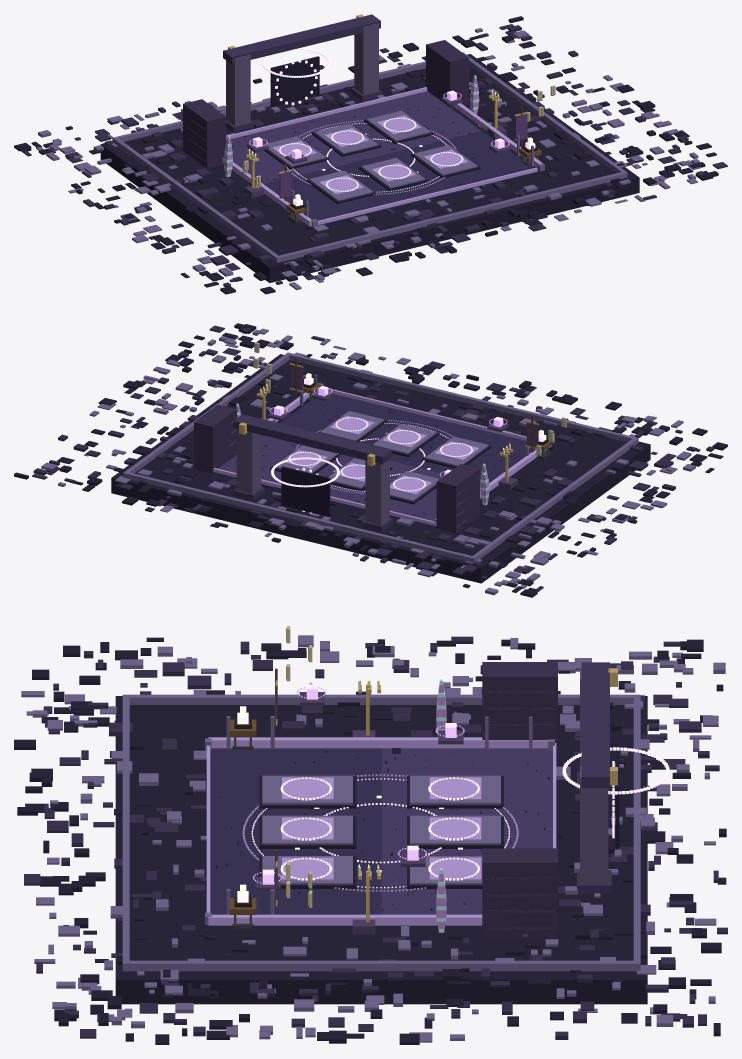
The model's file is preview-arcane.glb.
3 views of the same model, one above another, from view 1: azimuth 30°, elevation 25°; view 2: azimuth 150°, elevation 25°; view 3: azimuth 270°, elevation 25° (orthographic). The views are drawn at different scales.
Visible parts, largest first — view 1: Miniature_Plinth, Miniature_Outer_Rubble, Miniature_Six_Grounded_Foundations (×2), Miniature_Enemy_Floor, Miniature_Friendly_Floor, Miniature_Frame, Miniature_Arcane_Portal, Miniature_Arcane_Shelves, Miniature_Arena_Curb, Miniature_Portal_Void, Miniature_Banners, Miniature_Candelabras (+4 smaller); view 2: Miniature_Outer_Rubble, Miniature_Plinth, Miniature_Frame, Miniature_Six_Grounded_Foundations (×2), Miniature_Arcane_Portal, Miniature_Friendly_Floor, Miniature_Arcane_Shelves, Miniature_Enemy_Floor, Miniature_Arena_Curb, Miniature_Portal_Void, Miniature_Banners, Miniature_Candelabras; view 3: Miniature_Plinth, Miniature_Outer_Rubble, Miniature_Six_Grounded_Foundations (×2), Miniature_Friendly_Floor, Miniature_Enemy_Floor, Miniature_Frame, Miniature_Arcane_Shelves, Miniature_Arcane_Portal (×2), Miniature_Arena_Curb, Miniature_Braziers, Miniature_Candelabras, Miniature_Levitation_Daises (+3 smaller).
Boxes of the visible parts, left/top/right/bottom form: Miniature_Plinth: left=100, top=54, right=639, bottom=282; Miniature_Outer_Rubble: left=14, top=16, right=727, bottom=294; Miniature_Six_Grounded_Foundations (×2): left=264, top=110, right=480, bottom=203; Miniature_Enemy_Floor: left=226, top=91, right=481, bottom=183; Miniature_Friendly_Floor: left=264, top=131, right=536, bottom=225; Miniature_Frame: left=112, top=52, right=627, bottom=262; Miniature_Arcane_Portal: left=223, top=14, right=382, bottom=132; Miniature_Arcane_Shelves: left=183, top=40, right=468, bottom=168; Miniature_Arena_Curb: left=222, top=87, right=542, bottom=226; Miniature_Portal_Void: left=270, top=56, right=319, bottom=106; Miniature_Banners: left=278, top=106, right=528, bottom=200; Miniature_Candelabras: left=244, top=91, right=506, bottom=197; Miniature_Outer_Rubble: left=14, top=323, right=727, bottom=597; Miniature_Plinth: left=111, top=354, right=650, bottom=583; Miniature_Frame: left=123, top=352, right=638, bottom=562; Miniature_Six_Grounded_Foundations (×2): left=270, top=410, right=491, bottom=504; Miniature_Arcane_Portal: left=233, top=414, right=392, bottom=531; Miniature_Friendly_Floor: left=280, top=394, right=531, bottom=482; Miniature_Arcane_Shelves: left=194, top=404, right=479, bottom=533; Miniature_Enemy_Floor: left=214, top=435, right=480, bottom=526; Miniature_Arena_Curb: left=213, top=388, right=551, bottom=526; Miniature_Portal_Void: left=281, top=466, right=330, bottom=516; Miniature_Banners: left=289, top=357, right=539, bottom=452; Miniature_Candelabras: left=256, top=385, right=517, bottom=489; Miniature_Plinth: left=115, top=696, right=647, bottom=1004; Miniature_Outer_Rubble: left=14, top=635, right=727, bottom=1044; Miniature_Six_Grounded_Foundations (×2): left=259, top=775, right=503, bottom=888; Miniature_Friendly_Floor: left=210, top=748, right=381, bottom=914; Miniature_Enemy_Floor: left=381, top=748, right=552, bottom=914; Miniature_Frame: left=122, top=694, right=640, bottom=971; Miniature_Arcane_Shelves: left=482, top=662, right=557, bottom=937; Miniature_Arcane_Portal (×2): left=562, top=662, right=669, bottom=893; Miniature_Arena_Curb: left=206, top=737, right=556, bottom=925; Miniature_Braziers: left=229, top=718, right=256, bottom=930; Miniature_Candelabras: left=352, top=680, right=380, bottom=934; Miniature_Levitation_Daises: left=255, top=692, right=463, bottom=890.
Size of the model in its own units: 13.75 by 2.25 by 10.2.
